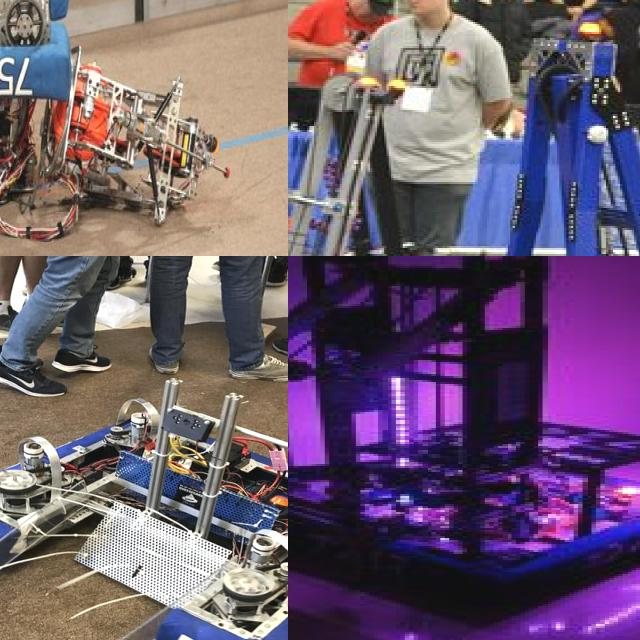FRC-Robots: (288, 256, 640, 638), (0, 256, 288, 640), (311, 26, 640, 256), (0, 0, 280, 256), (288, 59, 507, 256)
